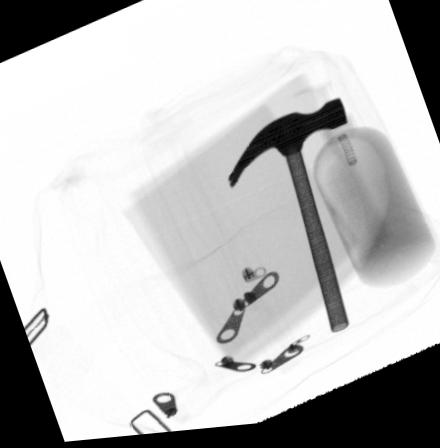Hammer: (226, 104, 351, 340)
